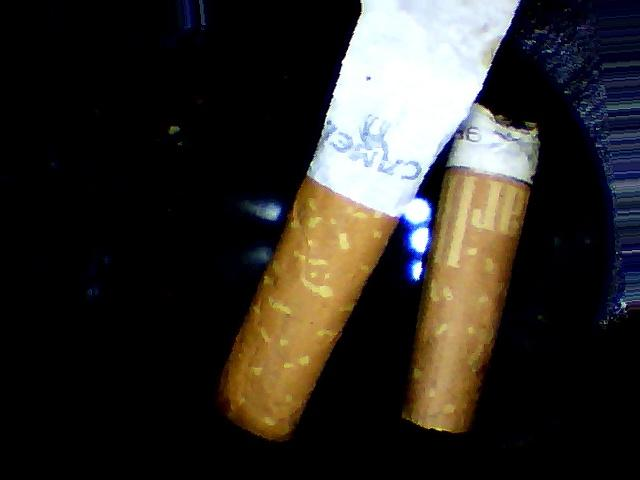megot: (172, 1, 568, 449), (362, 97, 575, 439)
